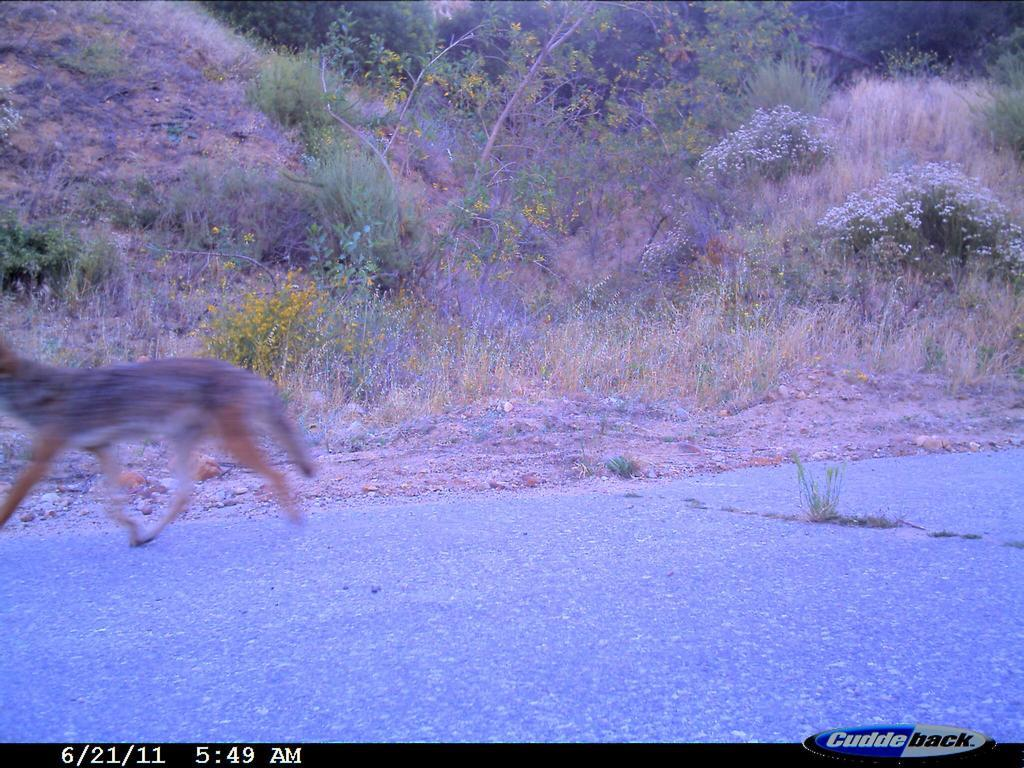coyote: (2, 329, 323, 560)
